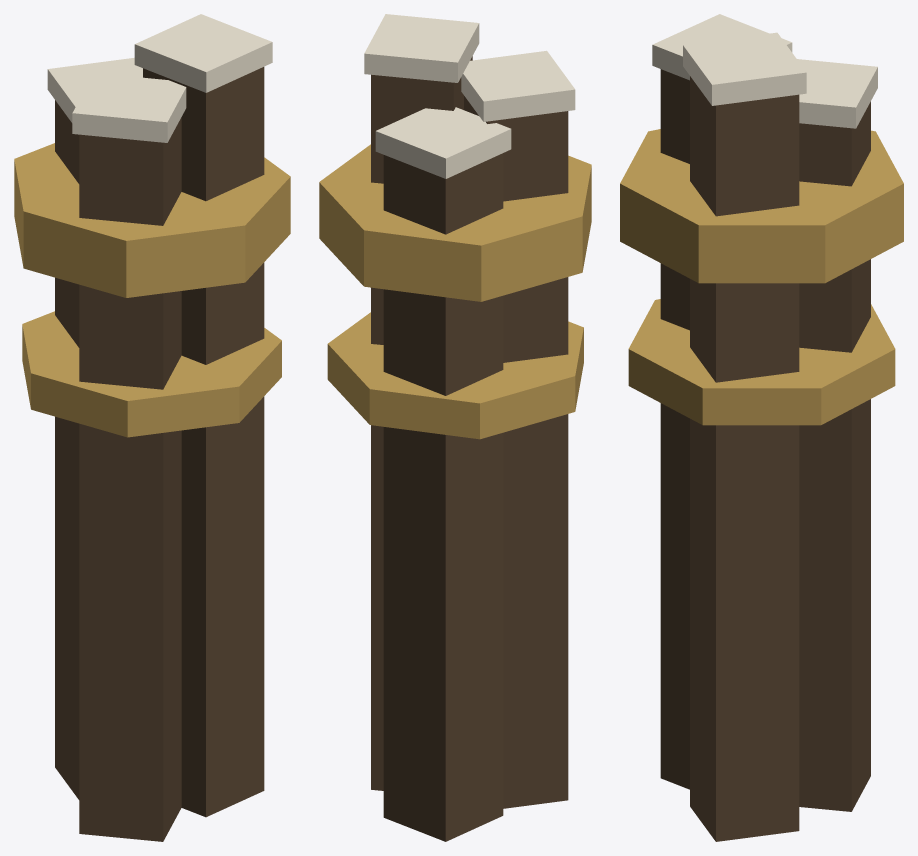
Rendered from quay-mooring-post.glb.
The picture shows the model from 3 angles, left to right: view 1: azimuth 30°, elevation 25°; view 2: azimuth 150°, elevation 25°; view 3: azimuth 270°, elevation 25°; orthographic projection. The views are drawn at different scales.
Parts seen in each view (by area): view 1: quay-mooring-post; view 2: quay-mooring-post; view 3: quay-mooring-post.
Part boxes in pixels (x1=…): quay-mooring-post: x1=14, y1=14, x2=290, y2=841; quay-mooring-post: x1=319, y1=14, x2=591, y2=841; quay-mooring-post: x1=620, y1=14, x2=903, y2=841.
Bounding box in the file's own units: 0.9505 × 2.88 × 0.9749.
1 material, 1 textured.
